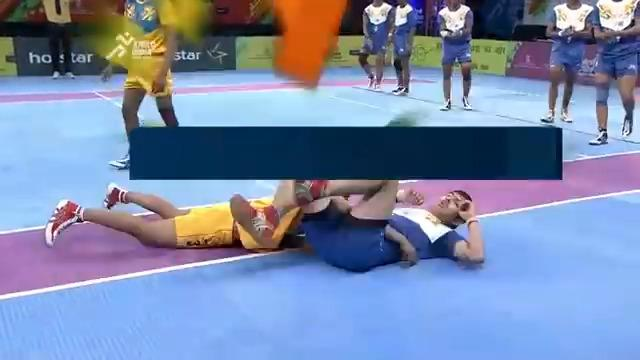Player: (44, 178, 485, 272), (102, 0, 180, 170), (588, 0, 639, 145), (540, 0, 594, 123), (435, 0, 474, 110), (357, 0, 395, 90), (387, 0, 417, 95)
Raider: (242, 171, 490, 278)
